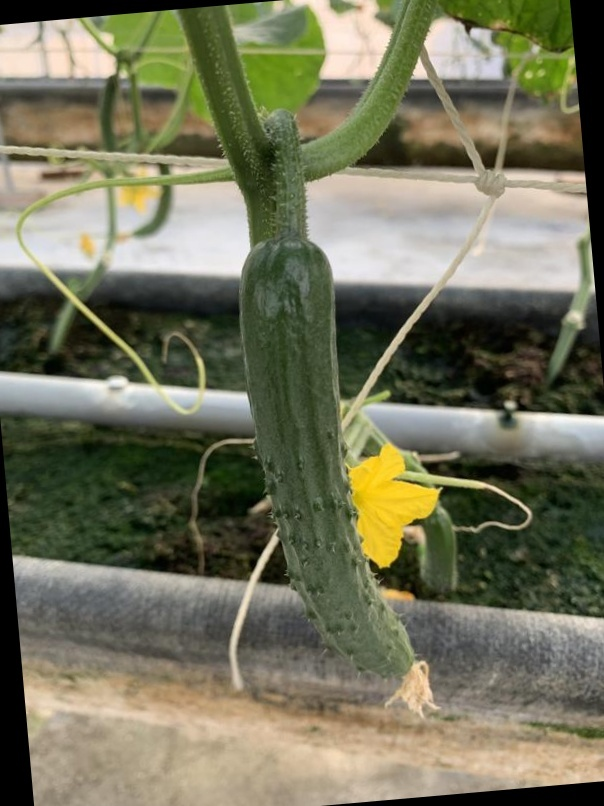mature: (230, 226, 431, 716)
